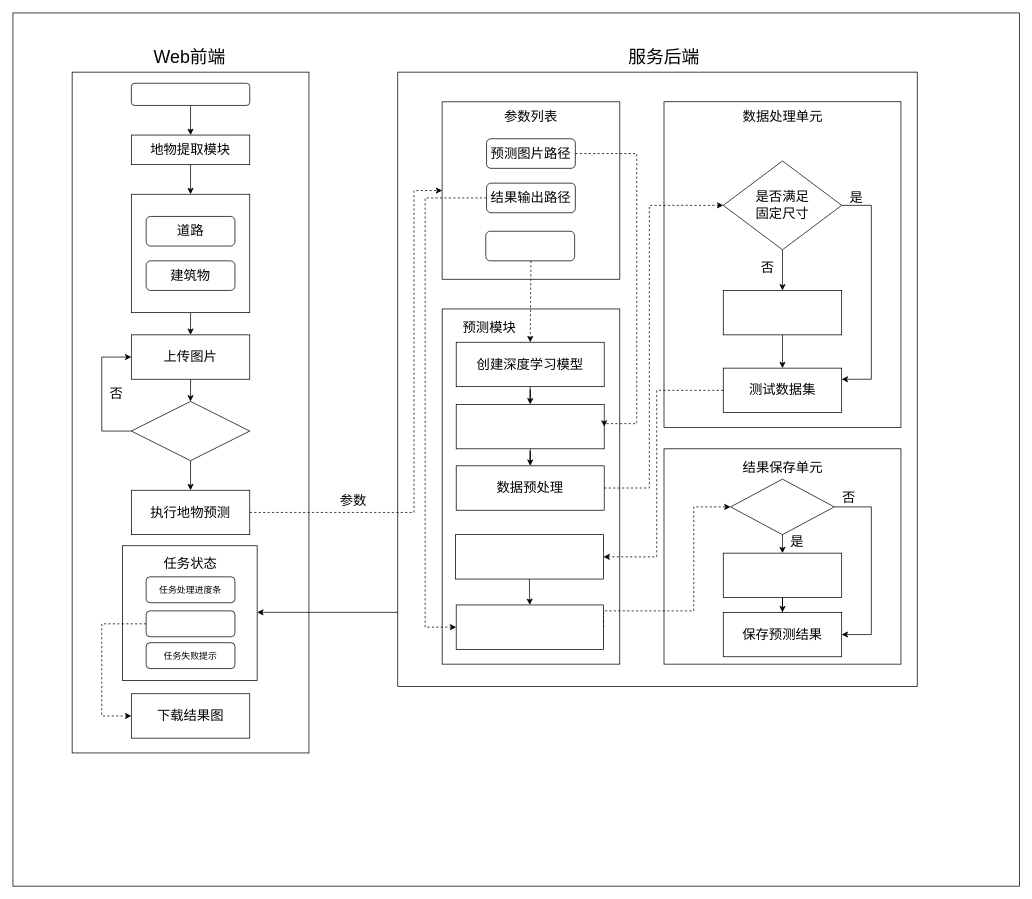
This 1032x899 diagram has some shape labels left out. The shapes that lost their labels are listed below. From the top down, each one's centre as x and y in pixels, then its label:
At (190,94): "开始".
At (530,246): "提取何种地物".
At (782,312): "数据切片".
At (190,431): "判断图 片格式".
At (529,426): "读取图片".
At (782,506): "是否进行 数据切片".
At (529,556): "开始预测".
At (782,575): "图像拼接".
At (190,623): "任务成功提示".
At (529,626): "预测结果".
